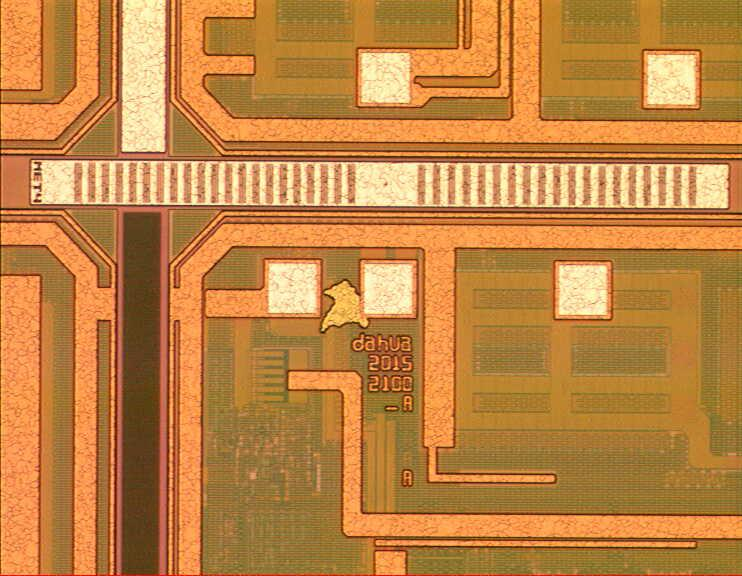BLOCK ETCH: (318, 275, 377, 342)
